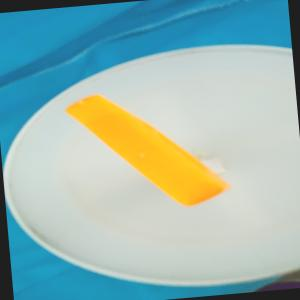serrote: (61, 82, 232, 216)
